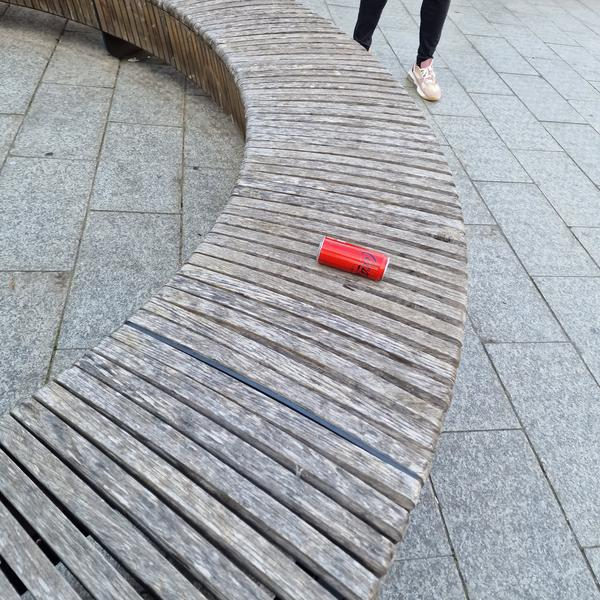can: (314, 234, 392, 283)
